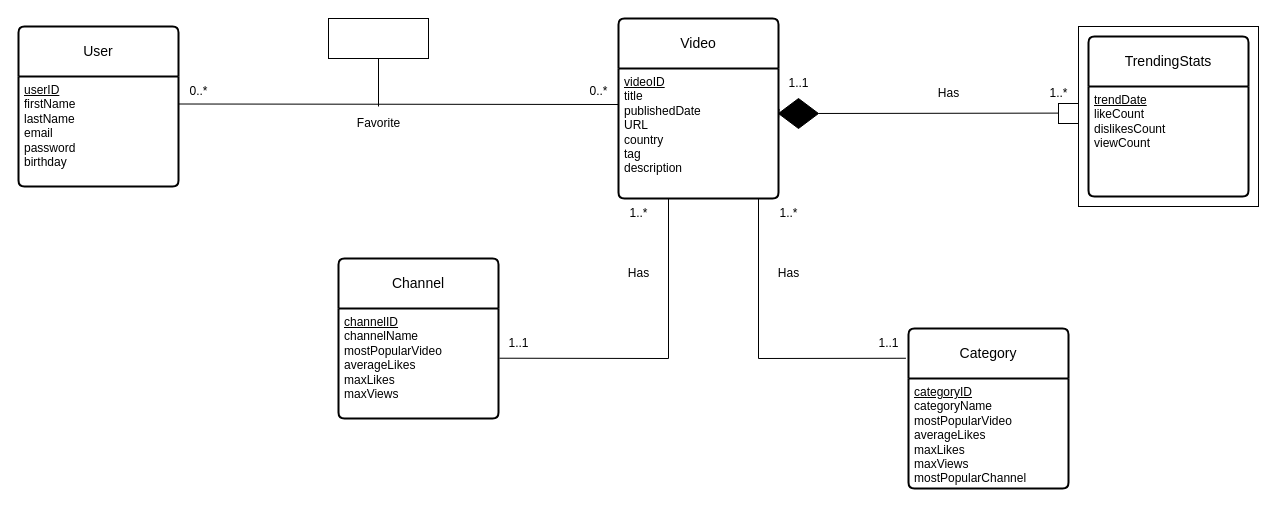
This 1276x506 diagram has some shape labels left out. The shapes that lost their labels are listed below. From the top down, each one's box as (x1, y1, x2, y2) in pixels, then its label:
(328, 18, 428, 58): rank
(1058, 102, 1078, 124): PK
